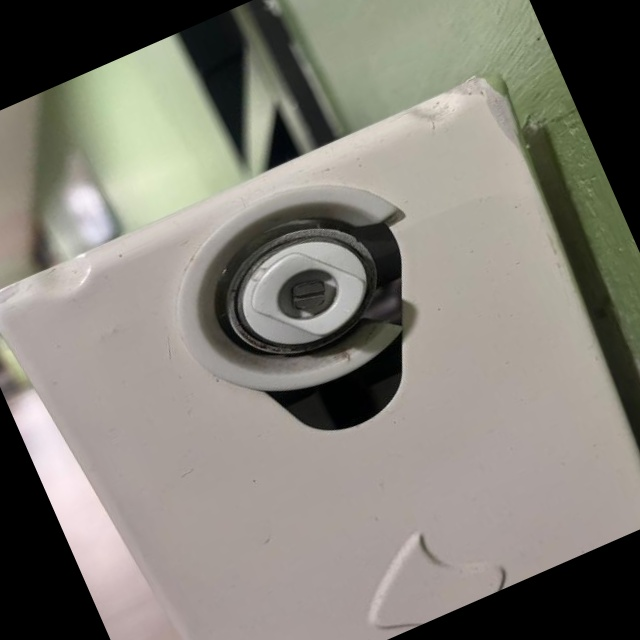duz: (287, 275, 331, 315)
